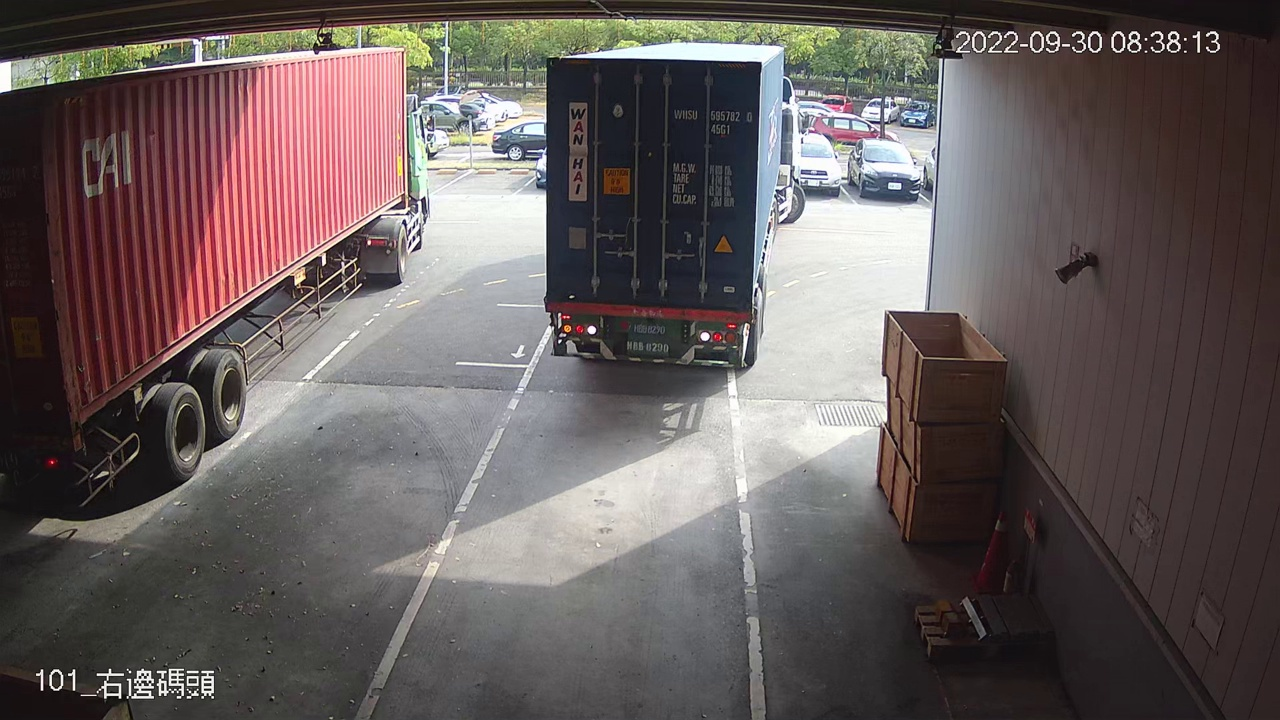container: (670, 104, 756, 141)
